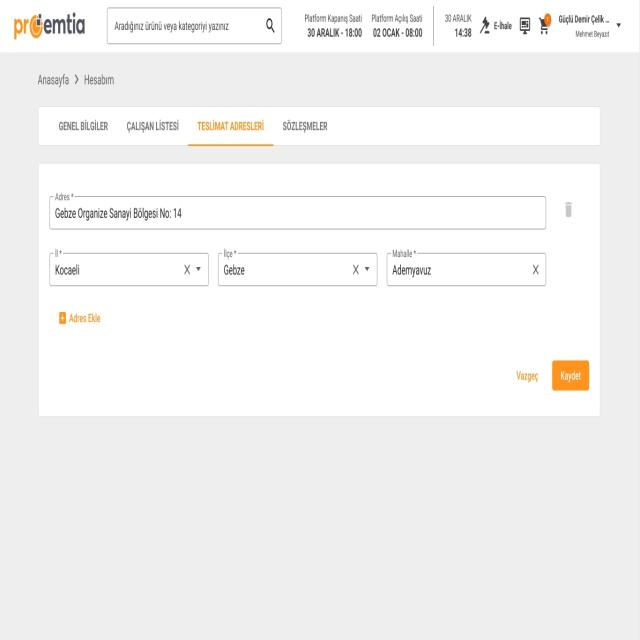QLabel: (196, 118, 265, 134), (304, 11, 362, 25), (56, 118, 110, 132), (306, 27, 364, 40), (558, 12, 610, 26), (370, 12, 424, 25), (126, 120, 180, 132), (372, 26, 423, 38), (281, 120, 329, 132), (559, 369, 583, 384), (574, 29, 610, 39), (515, 370, 539, 384), (444, 12, 472, 24), (493, 20, 514, 34), (454, 28, 472, 39)
VAppBar: (0, 1, 640, 52)
VBadge: (536, 12, 554, 36)
VBreadcrumbs: (36, 65, 118, 92)
VBtn: (52, 300, 106, 334), (552, 358, 590, 394), (508, 358, 545, 391)
VCard: (38, 162, 601, 420)
VCombobox: (48, 247, 209, 288), (218, 248, 378, 288)
VDivider: (431, 4, 436, 49)
VIcon: (478, 14, 492, 38), (517, 16, 533, 37), (562, 199, 575, 223), (615, 20, 622, 32)
VImg: (9, 10, 87, 41)
VTab: (188, 108, 273, 140), (117, 109, 185, 141), (45, 110, 114, 141), (277, 109, 341, 141)
VTabs: (38, 105, 600, 147)
VTextField: (48, 191, 547, 232), (107, 6, 282, 46), (386, 247, 546, 288)
